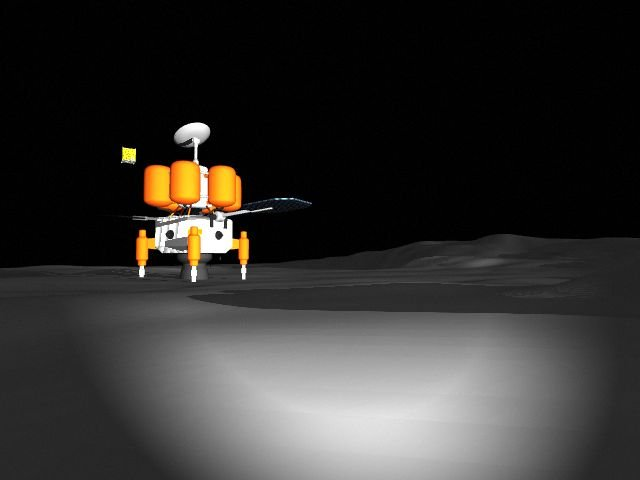cubesat: (115, 144, 140, 167)
